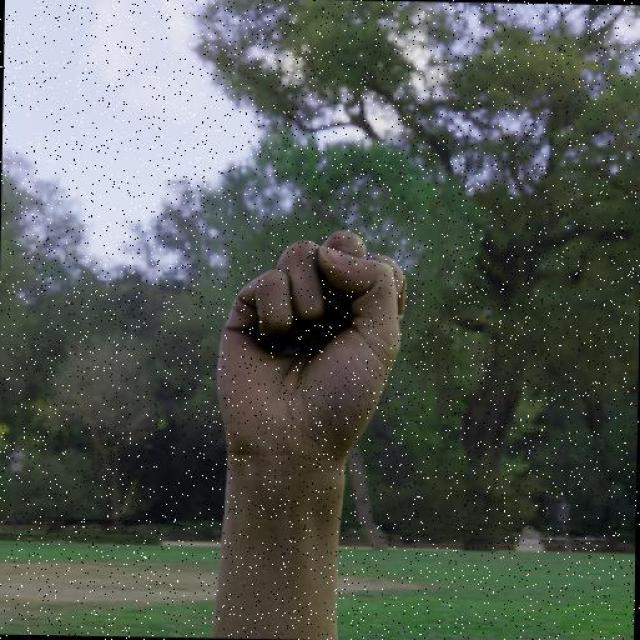S: (211, 227, 410, 464)
